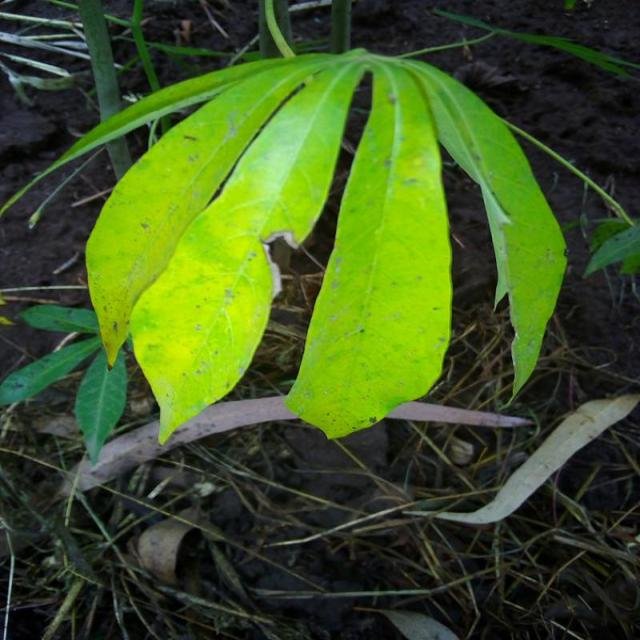cassava leaf: (81, 47, 567, 447), (283, 58, 453, 440)
